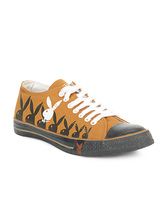shoes: (11, 77, 159, 156)
